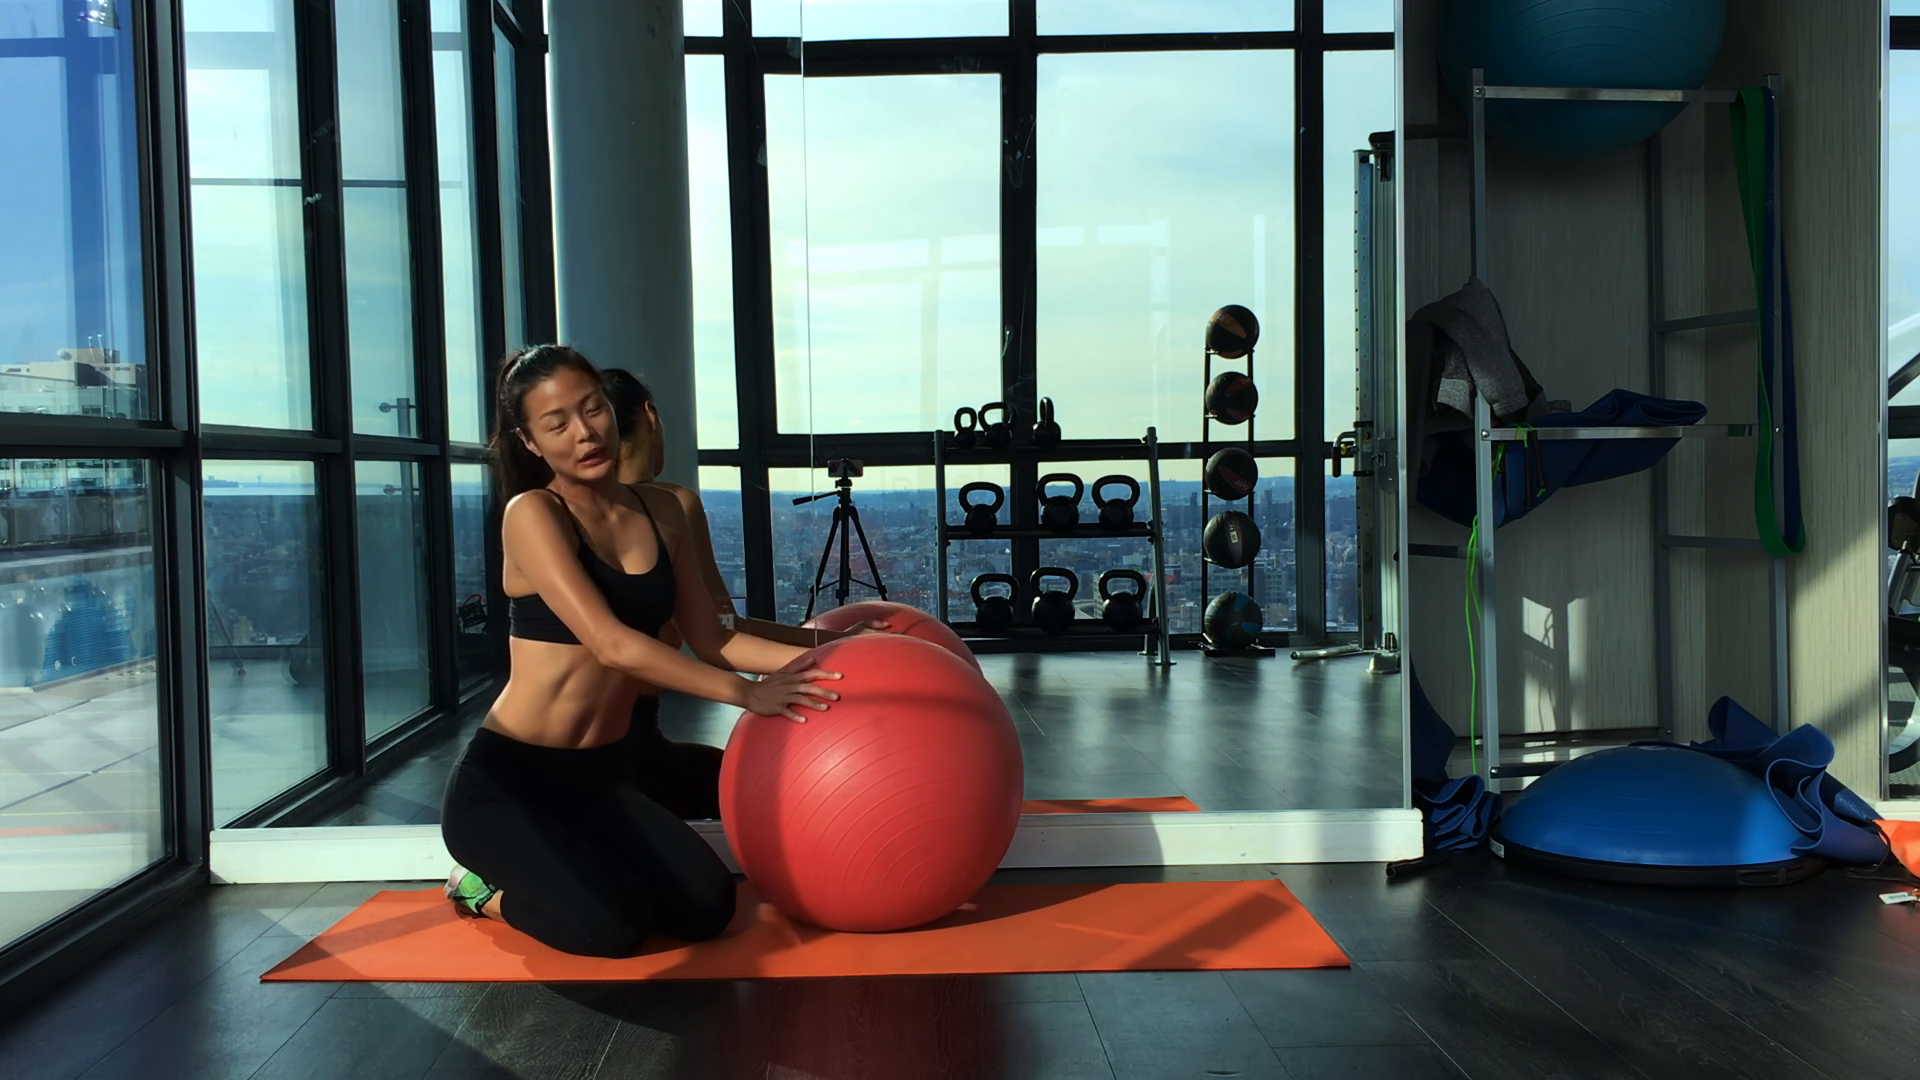yogaball: (708, 622, 1030, 945)
